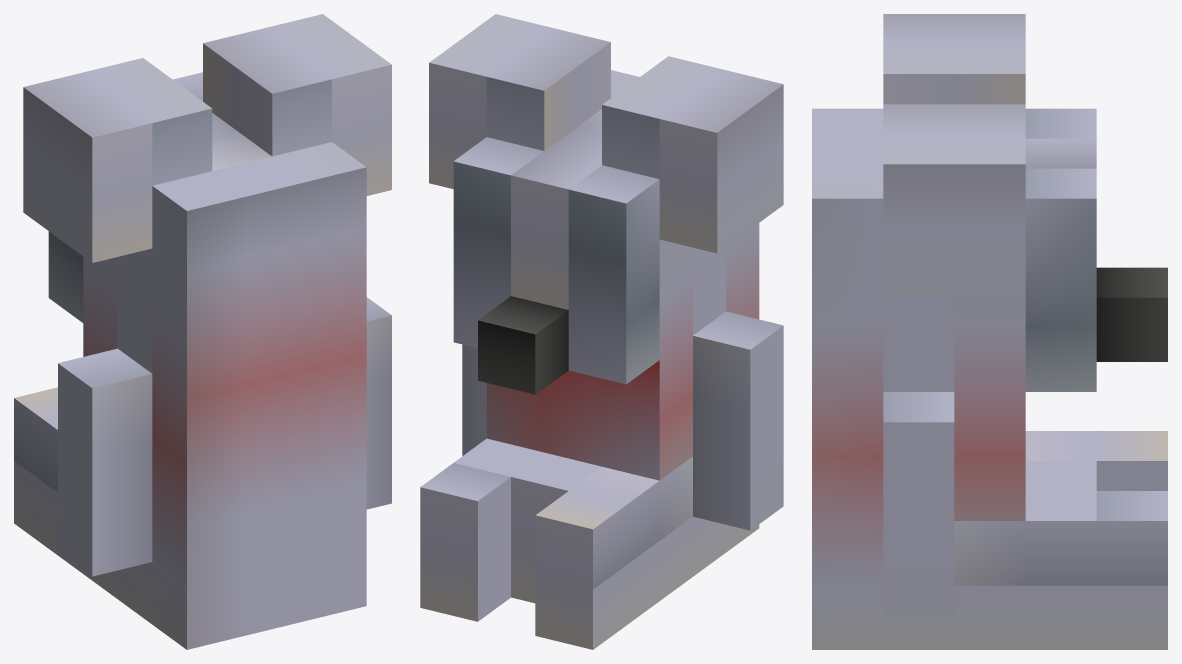
Rendered from PlushPurple_05.obj.
3 views of the same model, side by side, from view 1: azimuth 30°, elevation 25°; view 2: azimuth 150°, elevation 25°; view 3: azimuth 270°, elevation 25° (orthographic). The views are drawn at different scales.
Visible parts, largest first — view 1: PlushPurple_05; view 2: PlushPurple_05; view 3: PlushPurple_05.
Part boxes in pixels (x1,y1,x2,y2): PlushPurple_05: [14, 14, 391, 649]; PlushPurple_05: [420, 14, 783, 649]; PlushPurple_05: [812, 14, 1167, 649].
Size of the model in its own units: 0.25 by 0.4 by 0.25.
